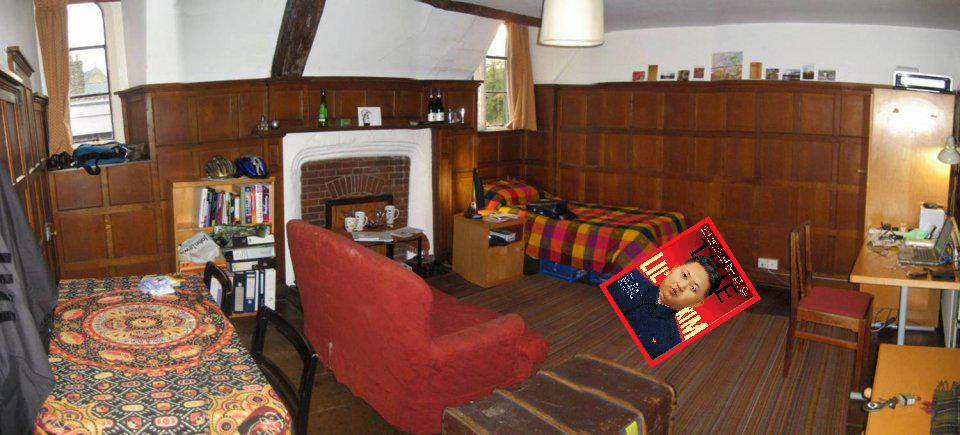times: (598, 212, 760, 371)
